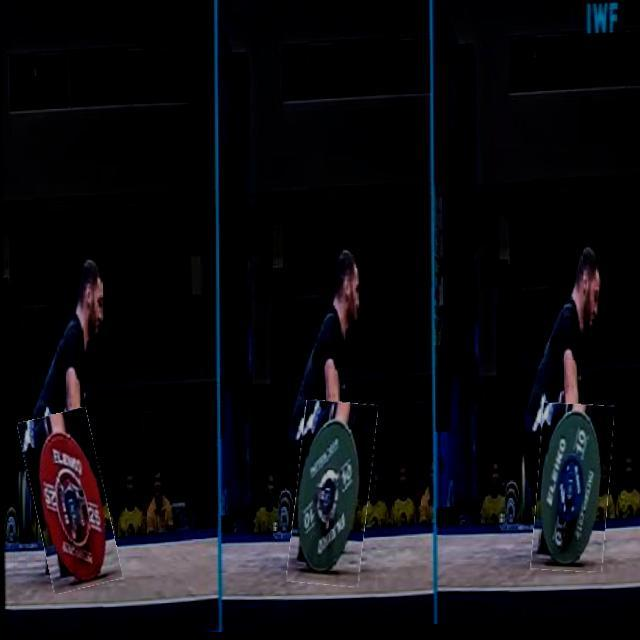barbell: (26, 410, 115, 594), (291, 404, 375, 591), (533, 408, 612, 579)
